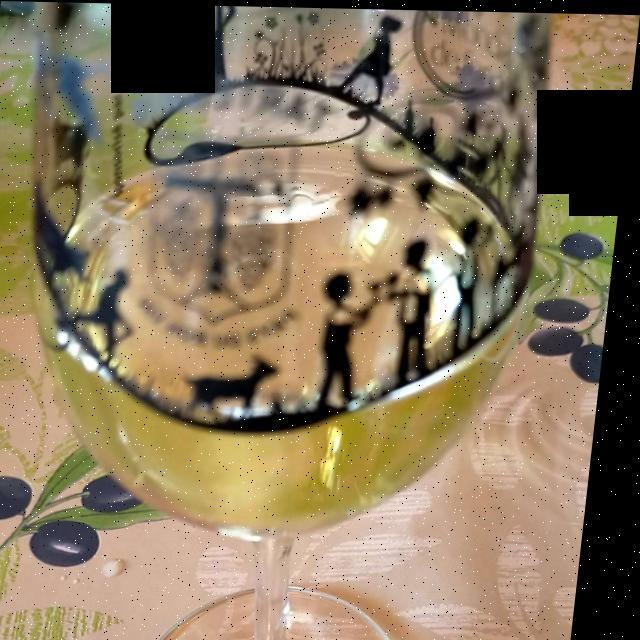wine: (38, 161, 537, 509)
